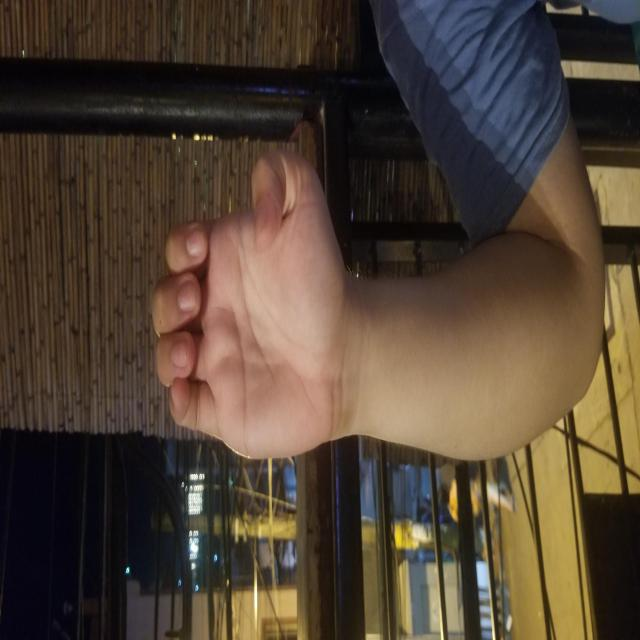E: (180, 150, 491, 342)
